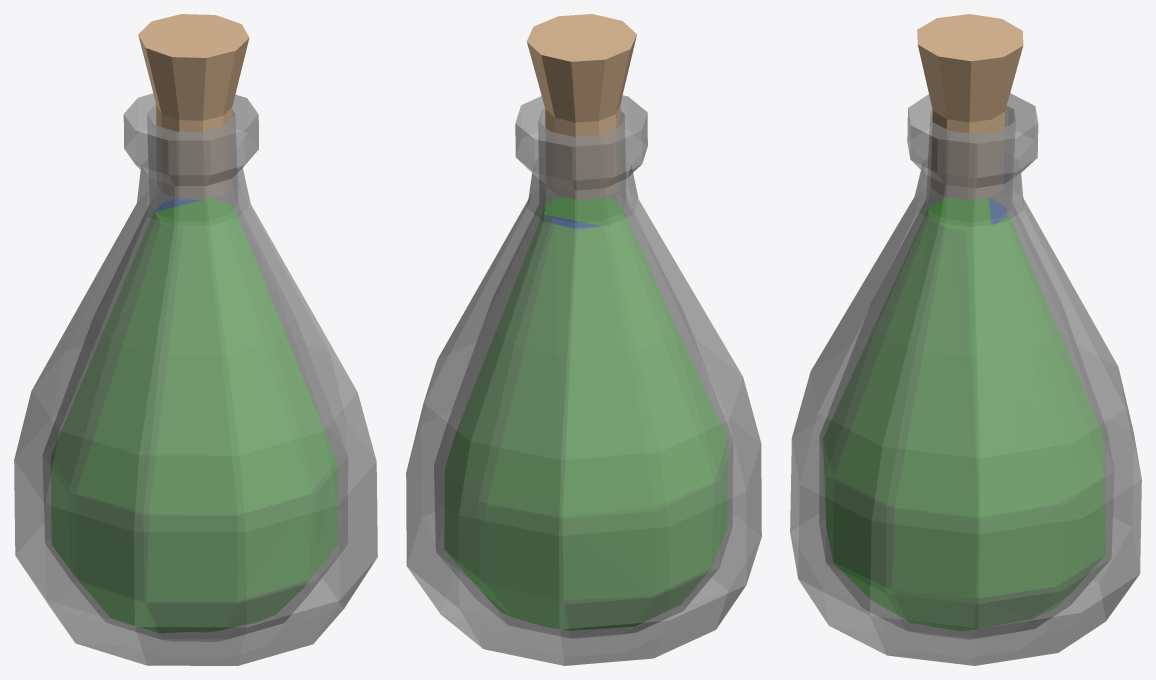
The model's file is POTION 3.fbx.
3 renders of one model, left to right at view 1: azimuth 30°, elevation 25°; view 2: azimuth 150°, elevation 25°; view 3: azimuth 270°, elevation 25°, orthographic.
Parts seen in each view (by area): view 1: POTION 2; view 2: POTION 2; view 3: POTION 2.
Boxes of the visible parts, left/top/right/bottom form: POTION 2: left=14, top=14, right=377, bottom=665; POTION 2: left=406, top=14, right=761, bottom=665; POTION 2: left=790, top=14, right=1141, bottom=665.
Bounding box in the file's own units: 13.86 × 24.9 × 13.54.
